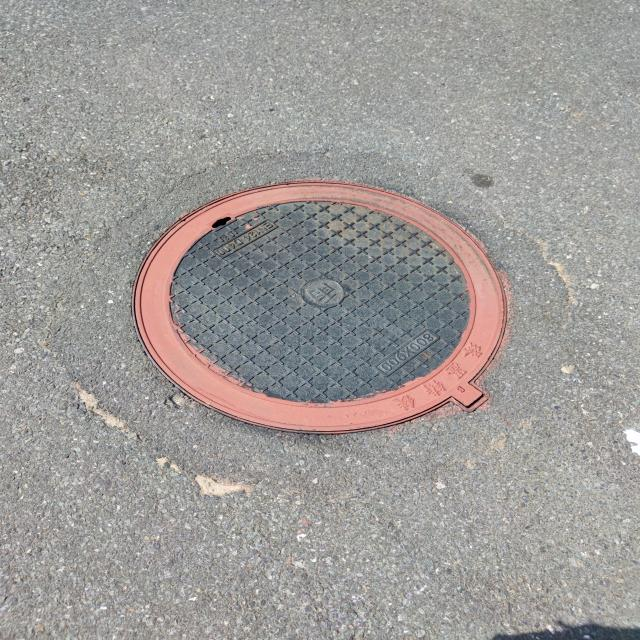Good: (128, 176, 516, 440)
